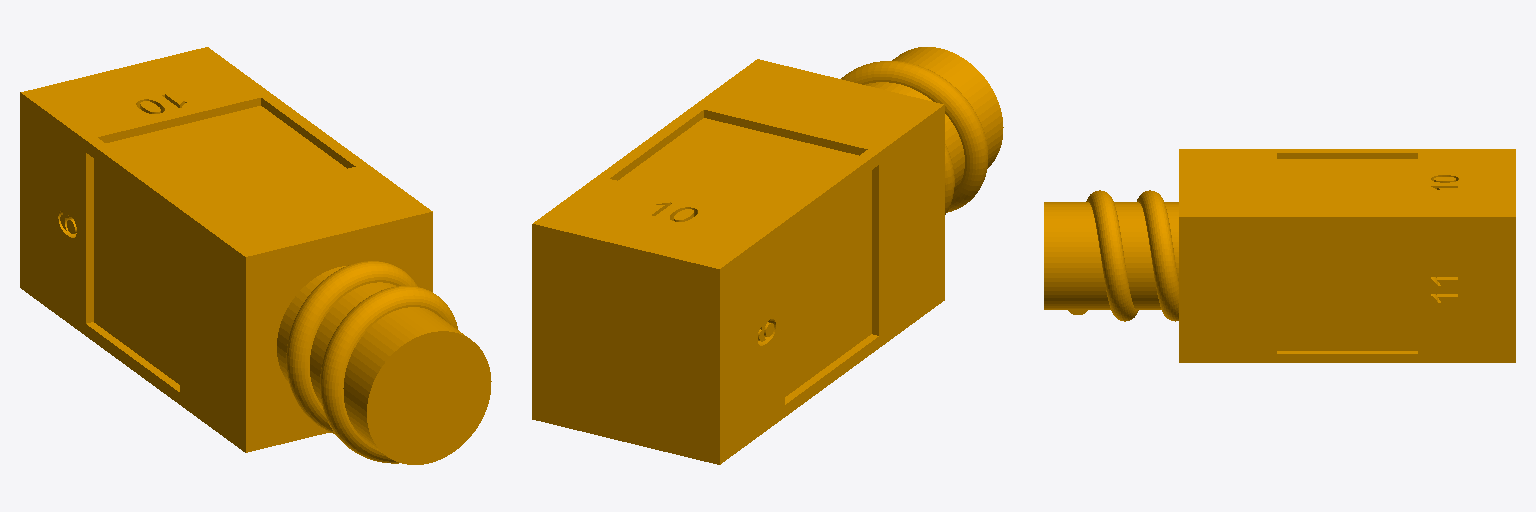
The robot description file, URDF, robot "square_table_leg1":
<?xml version="1.0"?>
<robot name="square_table_leg1">
    <link name="square_table_leg1">
        <visual>
            <geometry>
                <mesh filename="../mesh/square_table/square_table_leg1.obj" scale="1 1 1"/>
            </geometry>
        </visual>
        <collision>
            <geometry>
                <mesh filename="../mesh/square_table/square_table_leg1.obj" scale="1 1 1"/>
            </geometry>
            <sdf resolution="512"/>
        </collision>
    </link>
</robot>

--- What the picture shows (computed from the rendered views, not written in the file) ---
The picture shows the robot from 3 angles, left to right: view 1: azimuth 30°, elevation 25°; view 2: azimuth 150°, elevation 25°; view 3: azimuth 270°, elevation 25°; orthographic projection.
Robot: square_table_leg1 — 1 links, 0 joints (none); root link square_table_leg1; default pose: all joints at 0.
Visible links, largest first — view 1: square_table_leg1; view 2: square_table_leg1; view 3: square_table_leg1.
Link boxes in pixels (<box>): square_table_leg1: <box>20,47,491,464</box>; square_table_leg1: <box>532,47,1003,464</box>; square_table_leg1: <box>1044,149,1515,362</box>.
Bounding box of the posed robot: 0.03 × 0.0875 × 0.03 m (x, y, z).
1 mesh visuals loaded from 1 distinct referenced files (1 OBJ).
